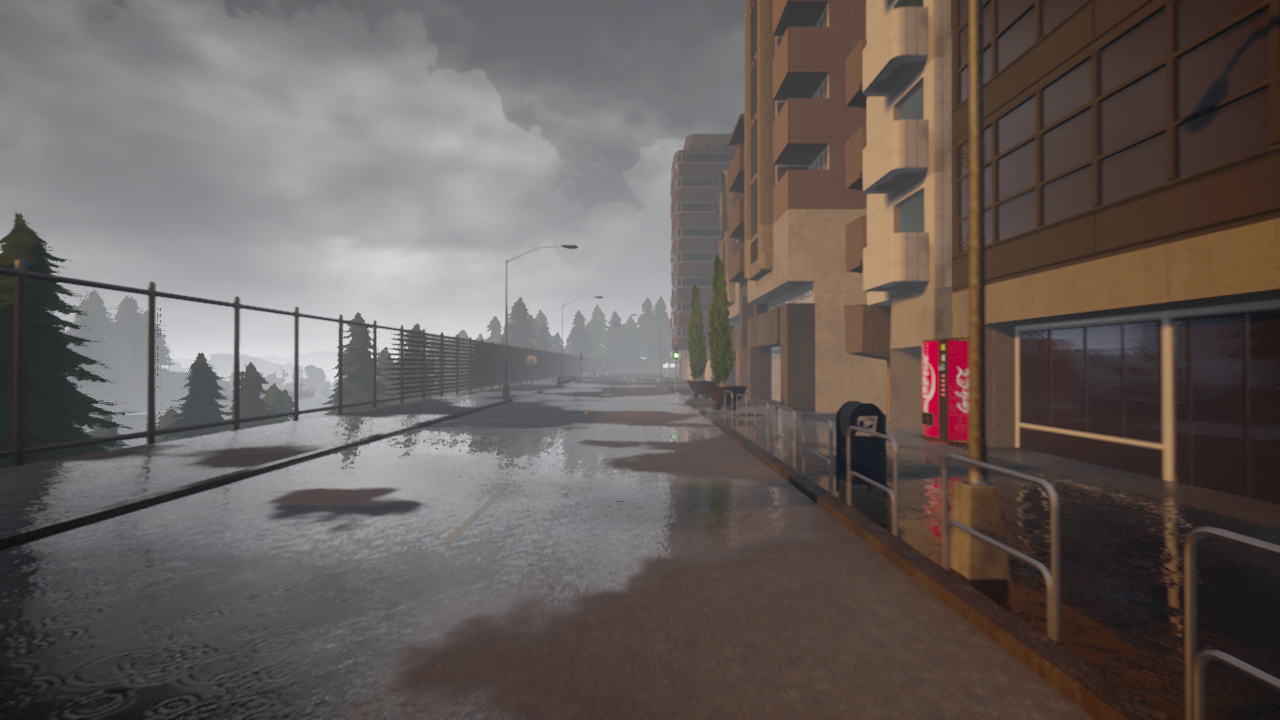green: (672, 344, 679, 360)
